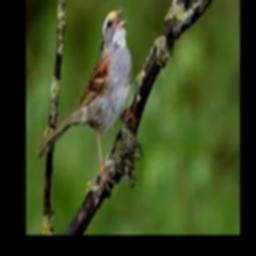Sparrow: (38, 5, 133, 196)
